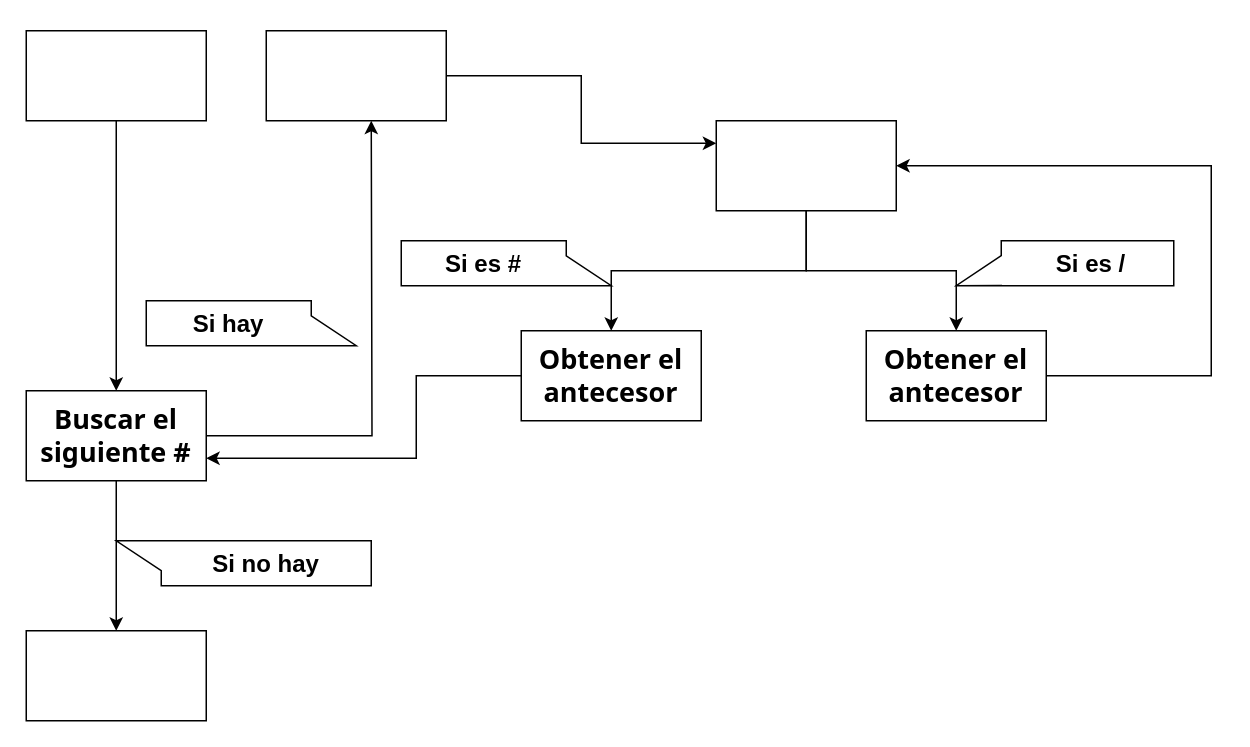
Image size: 1250x747. Some labels were removed from this diagram. Each missing label, with the centre of its shape:
"Buscar el siguiente # o /" goes at pixel 805 165.
"Inicio" goes at pixel 115 75.
"Terminamos" goes at pixel 115 675.
"Volver al primer carácter" goes at pixel 355 75.
